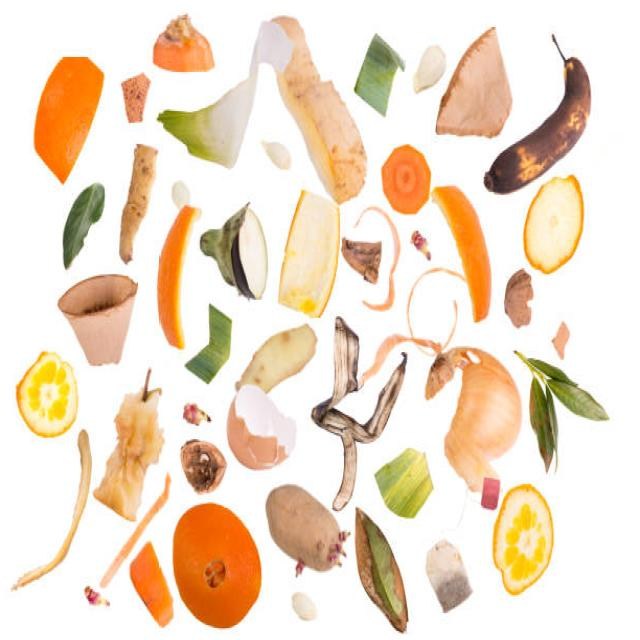organic: (309, 315, 409, 511), (481, 34, 593, 194), (423, 344, 523, 510), (512, 351, 608, 474), (172, 502, 260, 631), (92, 369, 164, 522), (156, 76, 268, 170), (34, 55, 104, 186), (434, 26, 514, 137), (432, 186, 494, 326), (277, 188, 341, 320), (234, 320, 317, 419), (266, 484, 350, 580), (55, 272, 139, 366), (353, 504, 410, 635), (492, 482, 554, 596), (198, 205, 269, 302), (155, 205, 201, 354), (14, 348, 80, 441), (522, 175, 583, 274), (116, 143, 158, 266), (353, 36, 408, 116), (372, 448, 434, 518), (184, 304, 234, 387), (58, 183, 105, 270), (129, 538, 174, 628), (380, 144, 432, 216), (153, 15, 215, 71), (180, 438, 229, 493), (503, 264, 535, 332), (339, 236, 382, 286), (411, 44, 444, 96), (122, 70, 150, 126)
